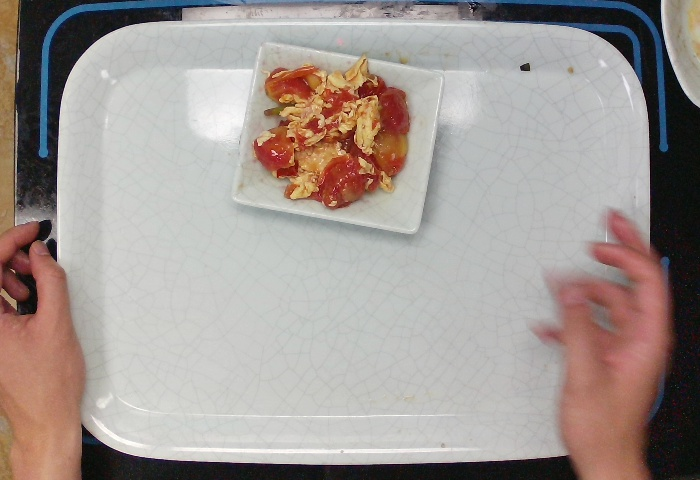WCQzf-Ru_Ci_Si_Fang_Die: (223, 36, 447, 240)
